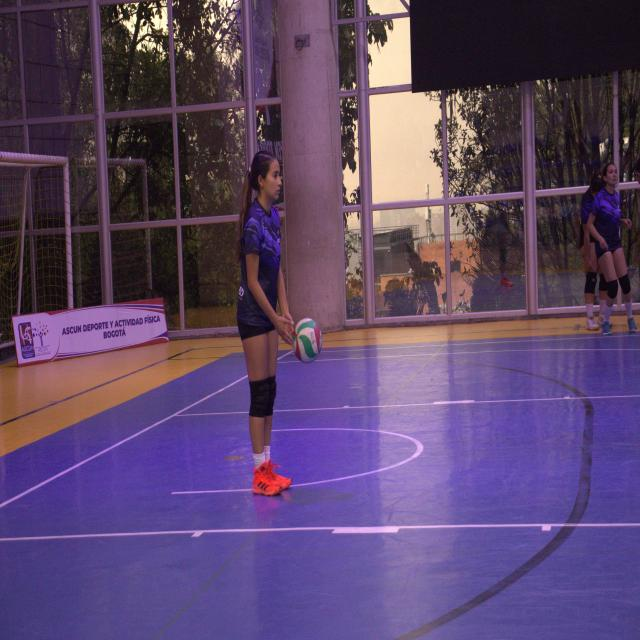volleyball: (293, 318, 323, 364)
